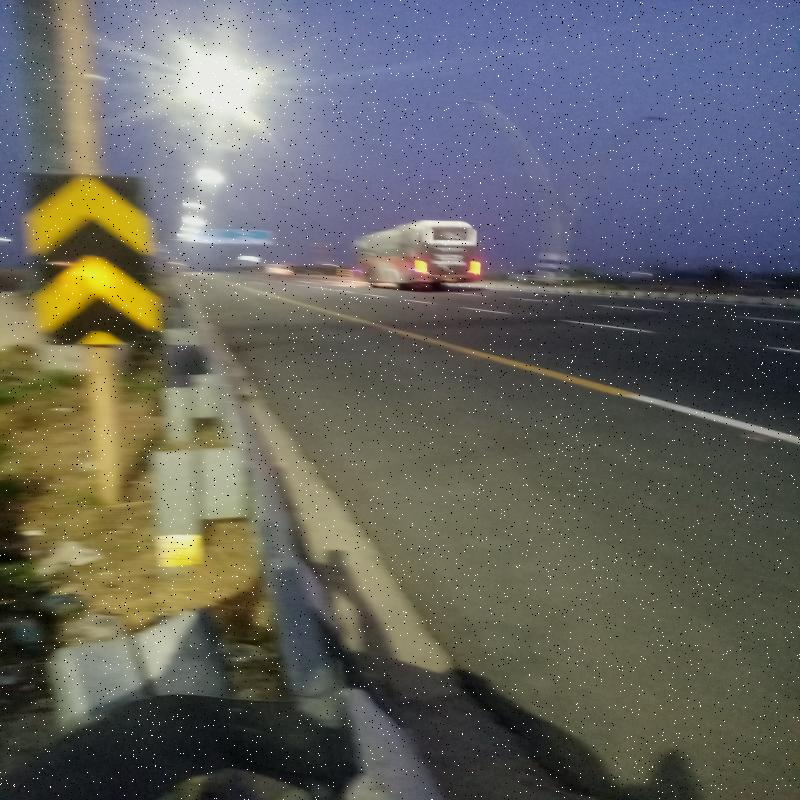bus: (348, 219, 482, 296)
